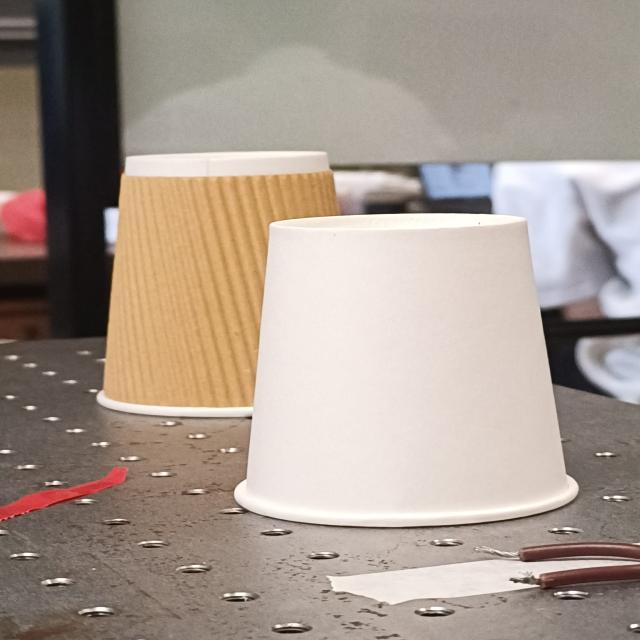Browncup: (98, 152, 339, 417)
Whitecup: (234, 213, 578, 528)
